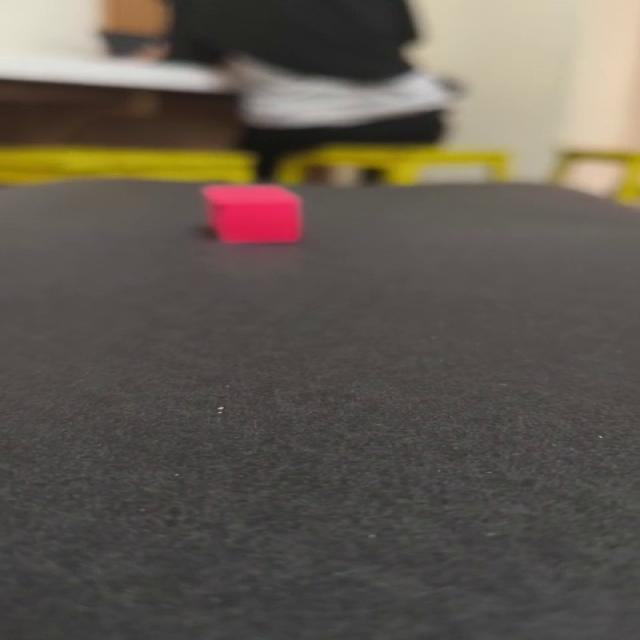red block: (200, 183, 304, 244)
